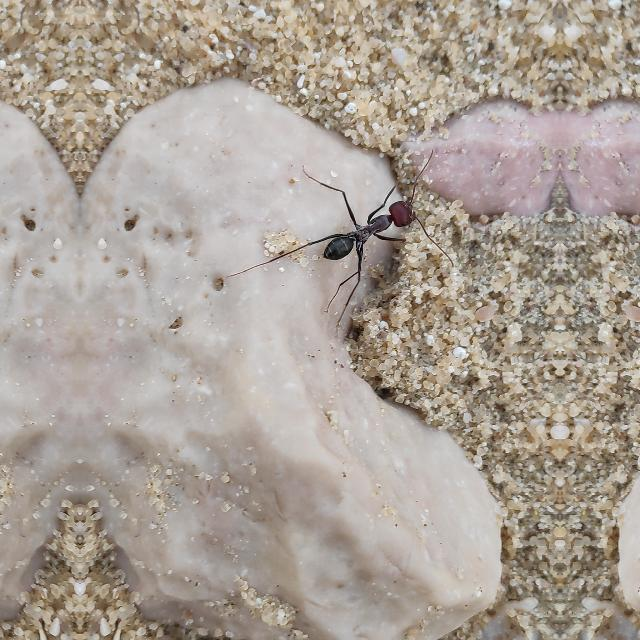Cataglyphis: (312, 178, 423, 278)
